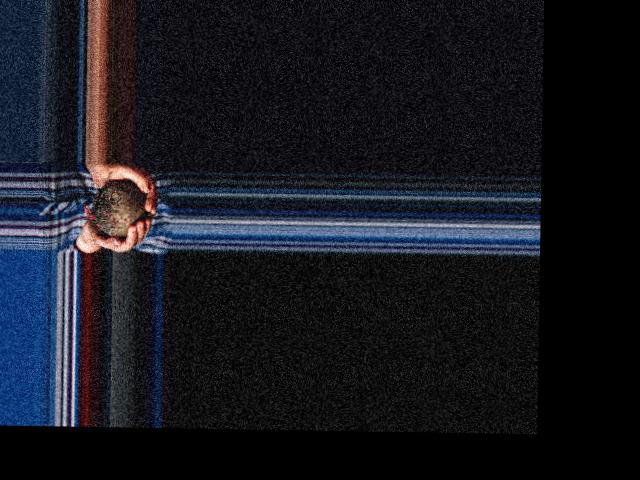beet: (82, 179, 146, 236)
